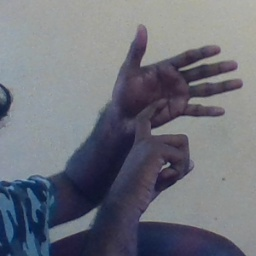R: (91, 22, 246, 186)
